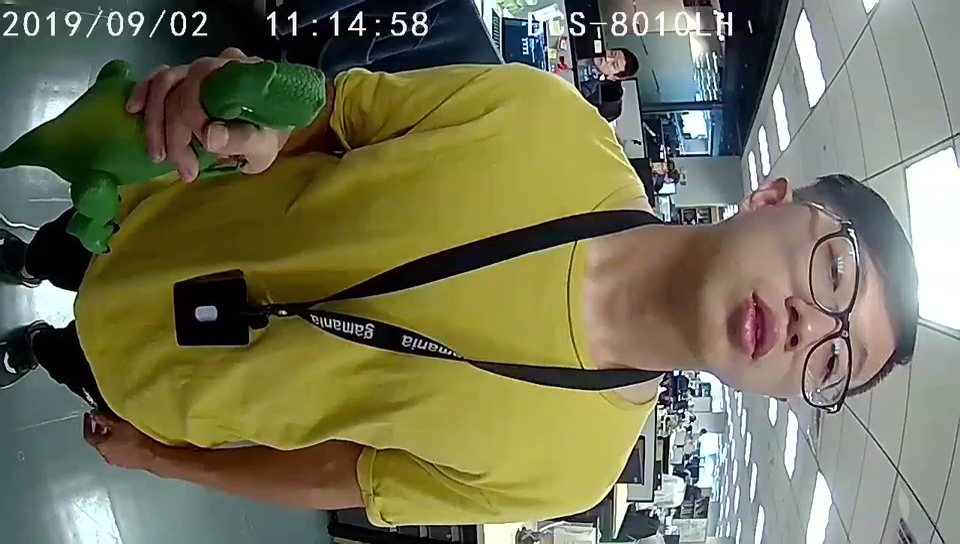rex: (60, 61, 326, 254)
